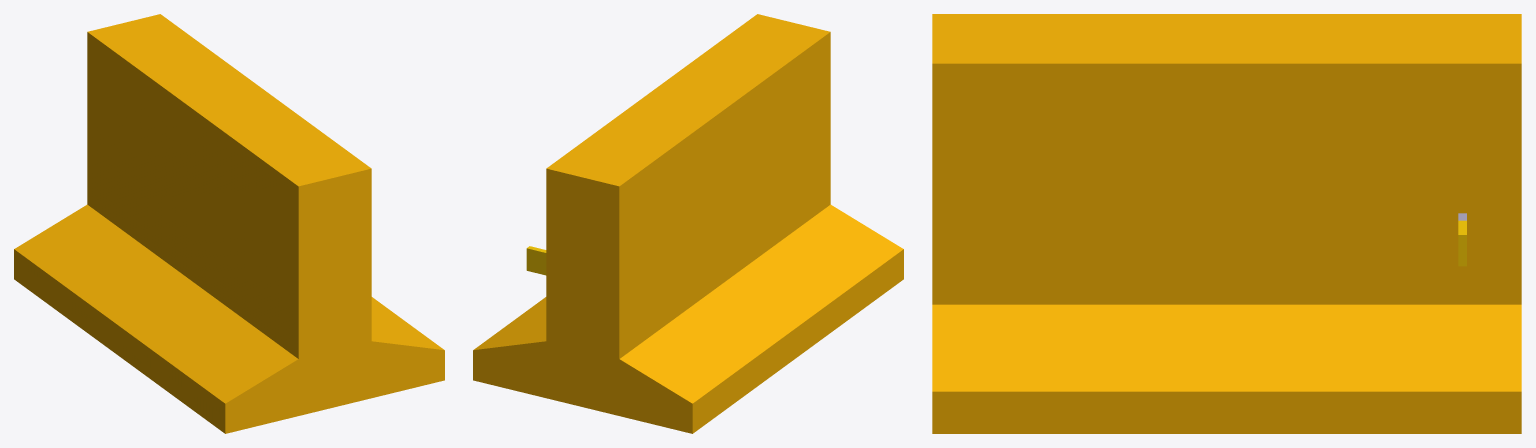
Rendered from barrier_yellow_yes.fbx.
The picture shows the model from 3 angles, left to right: view 1: azimuth 30°, elevation 25°; view 2: azimuth 150°, elevation 25°; view 3: azimuth 270°, elevation 25°; orthographic projection. The views are drawn at different scales.
Visible parts, largest first — view 1: Cube.080; view 2: Cube.080; view 3: Cube.080.
Boxes of the visible parts, x1,y1,x2,y2 form: Cube.080: (14,14,444,433); Cube.080: (473,14,903,433); Cube.080: (932,14,1521,433).
Size of the model in its own units: 300 by 300 by 500.
Materials: 2 (2 with a texture image).
